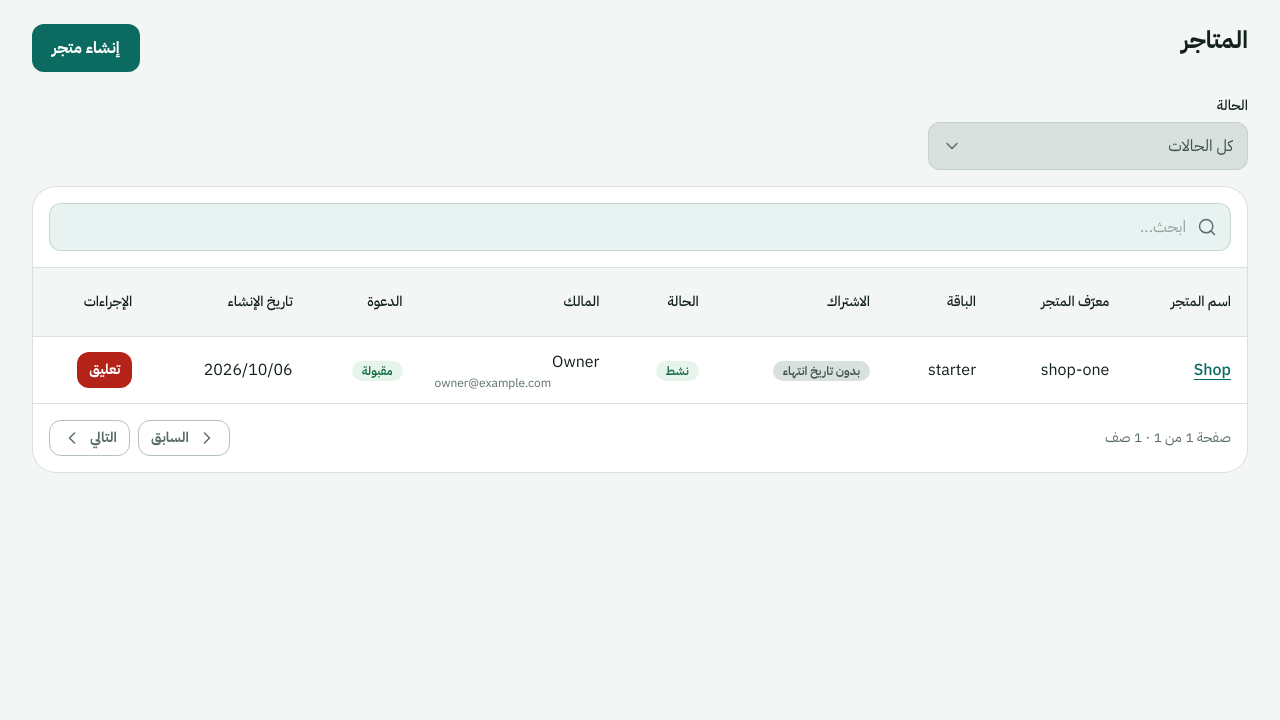
shop admin › hides resend for accepted invitations and requires a reason to suspend
Check: the link "Shop" is shown, box [1194,358,1231,382]
Click the button "تعليق" at (105, 370), box [77,352,132,388]
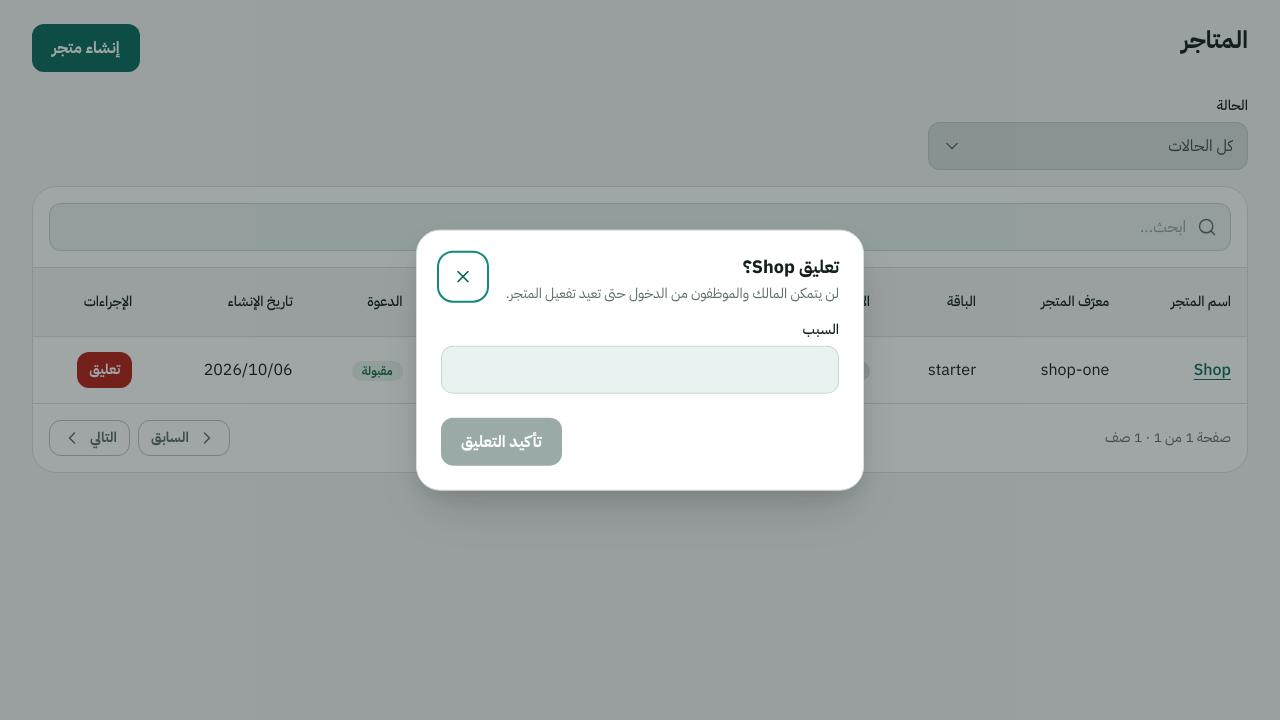
Check: the button "تأكيد التعليق" is disabled, box [441,417,562,465]
Type "reason" into the field labelled "السبب" at (640, 369), box [441,345,839,393]
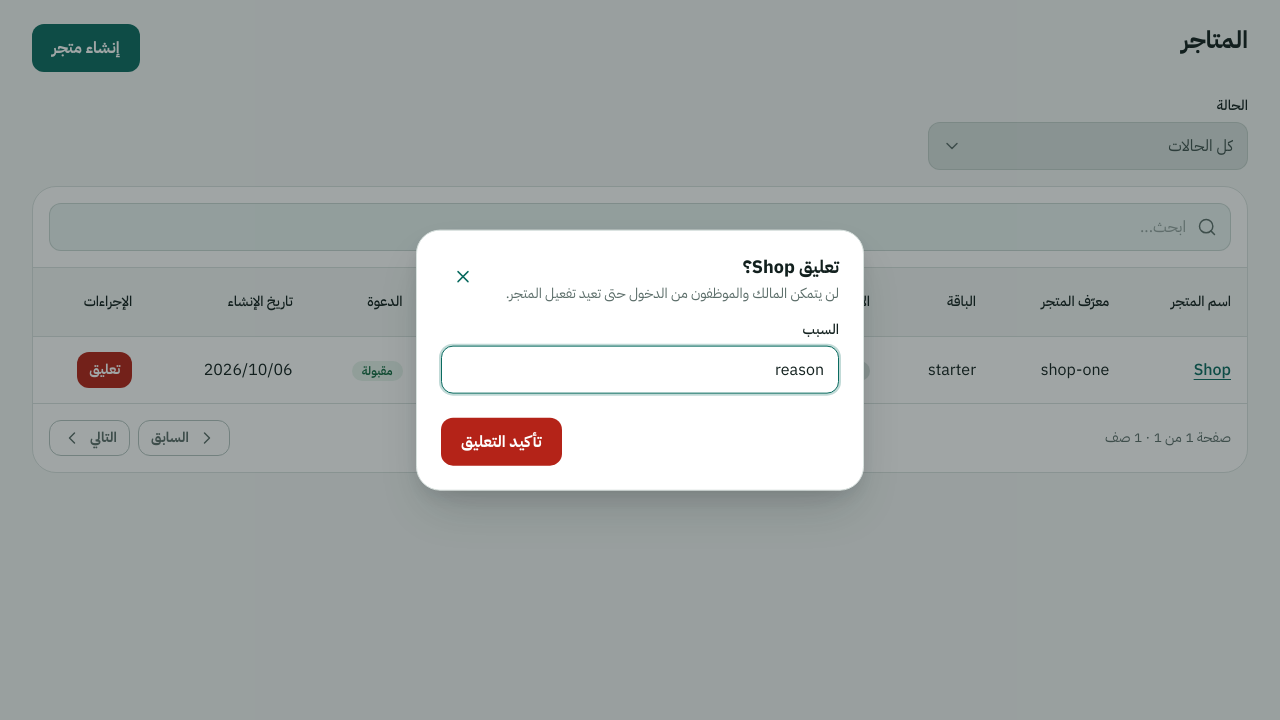
Check: the button "تأكيد التعليق" is enabled, box [441,417,562,465]
